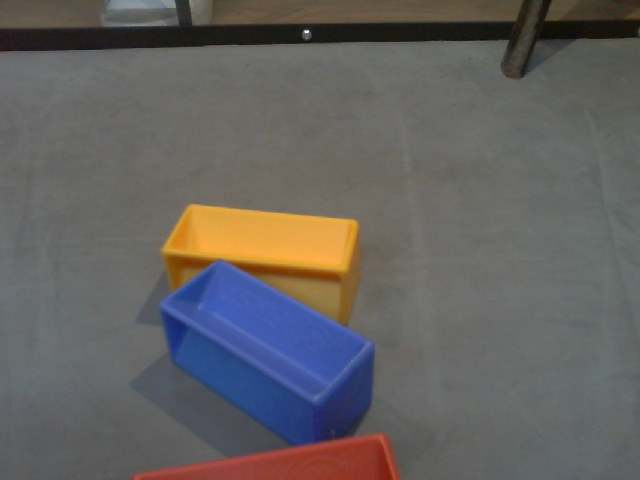BlueSample: (156, 256, 382, 447)
RedSample: (126, 430, 400, 479)
YellowSample: (158, 201, 365, 330)
